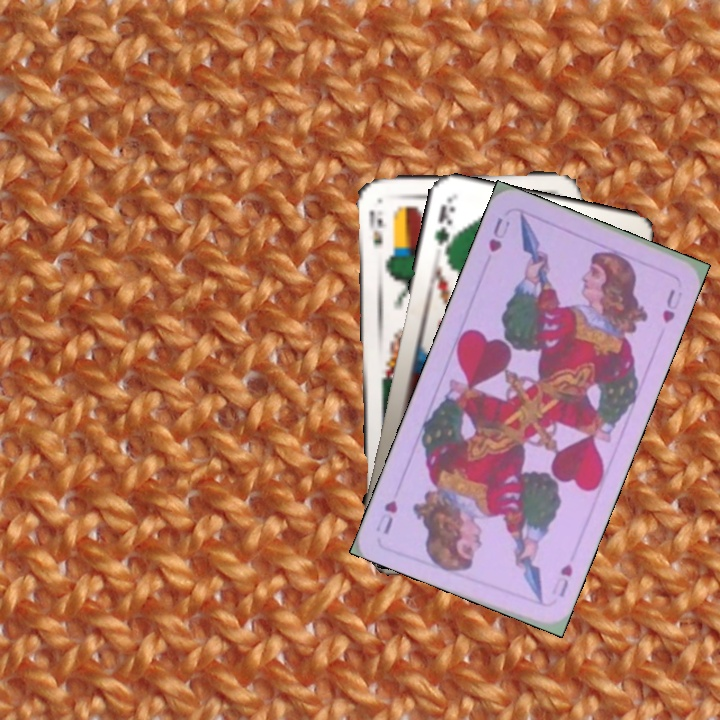EK: (364, 206, 385, 248)
GK: (430, 198, 458, 258)
HU: (484, 213, 513, 255), (547, 560, 575, 600)
